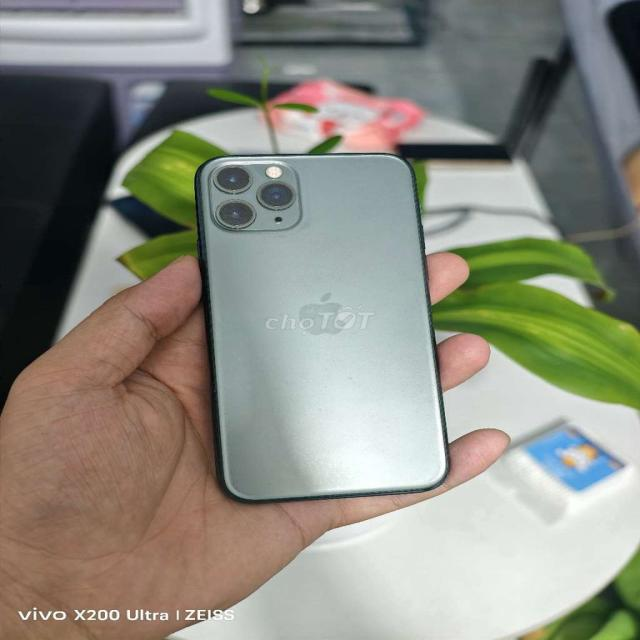gen_11: (194, 148, 454, 506)
